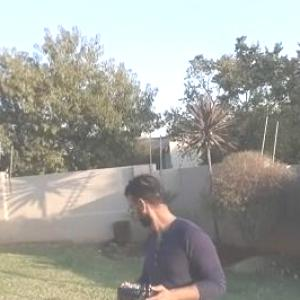follow: (110, 159, 226, 299)
